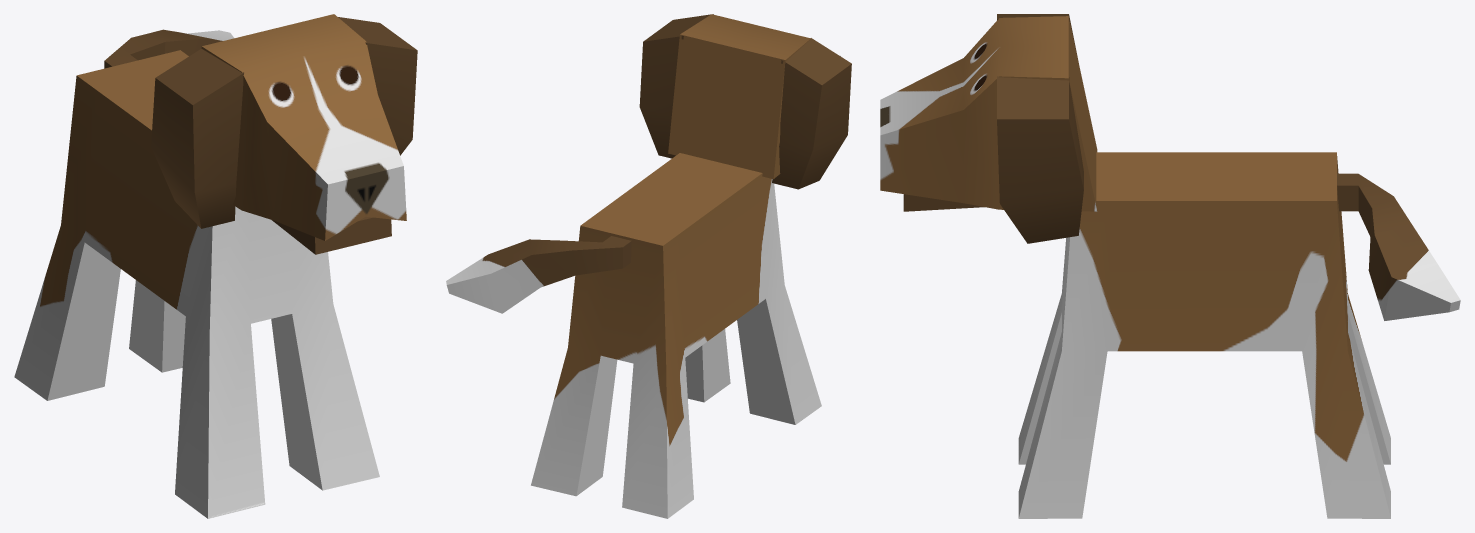
Rendered from Lg-brownDog.fbx.
3 renders of one model, left to right at view 1: azimuth 30°, elevation 25°; view 2: azimuth 150°, elevation 25°; view 3: azimuth 270°, elevation 25°, orthographic. The views are drawn at different scales.
Visible parts, largest first — view 1: Body, Head, RightEar, LeftEar, Tail, bottomJaw; view 2: Body, Head, RightEar, Tail, LeftEar; view 3: Body, Head, LeftEar, Tail, bottomJaw.
Part boxes in pixels (<box>): Body: <box>14,50,379,518</box>; Head: <box>201,14,406,240</box>; RightEar: <box>151,48,243,228</box>; LeftEar: <box>338,17,417,155</box>; Tail: <box>104,29,234,68</box>; bottomJaw: <box>272,216,391,254</box>; Body: <box>531,153,821,518</box>; Head: <box>668,14,840,179</box>; RightEar: <box>772,38,851,189</box>; Tail: <box>446,236,631,313</box>; LeftEar: <box>639,14,713,158</box>; Body: <box>1018,152,1390,518</box>; Head: <box>880,16,1097,211</box>; LeftEar: <box>997,76,1083,243</box>; Tail: <box>1337,173,1460,320</box>; bottomJaw: <box>903,194,984,211</box>.
Bounding box in the file's own units: 1.91 × 2.99 × 3.65.
1 material, 1 textured.
